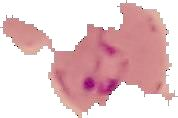parasitized: (89, 36, 151, 104), (71, 63, 136, 116)
